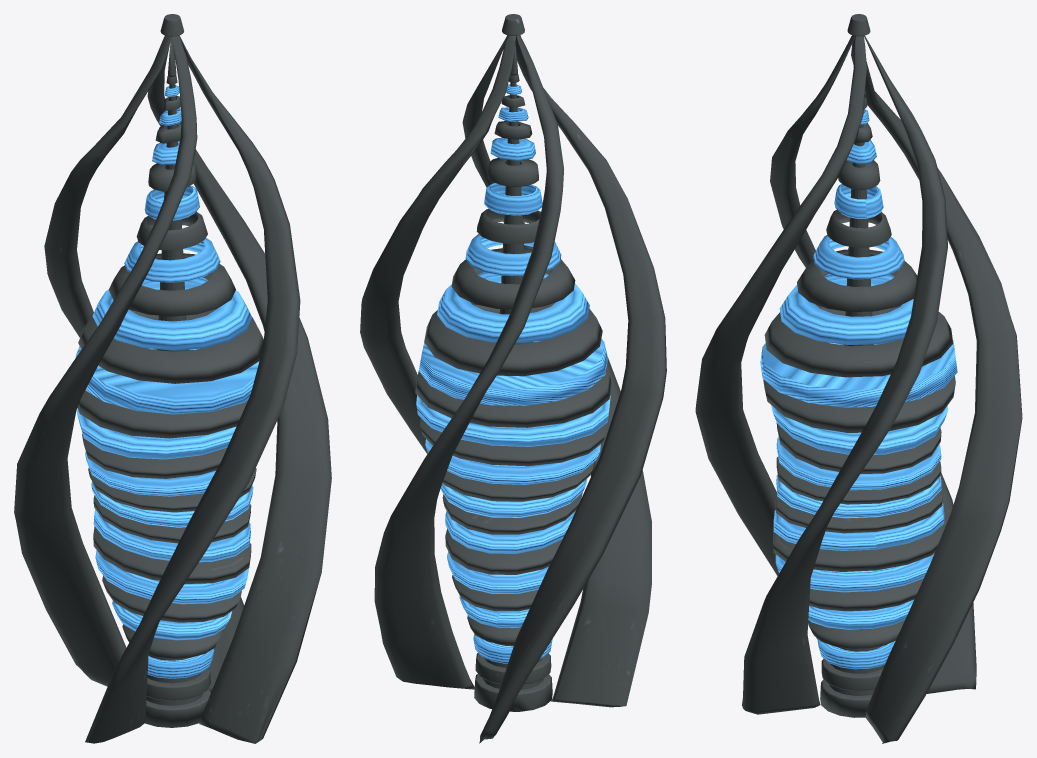
The model's file is BLD1310020.fbx.
The picture shows the model from 3 angles, left to right: view 1: azimuth 30°, elevation 25°; view 2: azimuth 150°, elevation 25°; view 3: azimuth 270°, elevation 25°; orthographic projection. The views are drawn at different scales.
Parts seen in each view (by area): view 1: smBLD1310020; view 2: smBLD1310020; view 3: smBLD1310020.
Part boxes in pixels (bbox=[...]): smBLD1310020: bbox=[14, 14, 331, 743]; smBLD1310020: bbox=[360, 14, 666, 743]; smBLD1310020: bbox=[695, 14, 1022, 743].
Bounding box in the file's own units: 2030 × 4705 × 2039.
1 material, 1 textured.
